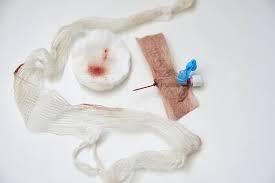cotton: (14, 0, 200, 182), (137, 33, 197, 119), (71, 29, 130, 90)
